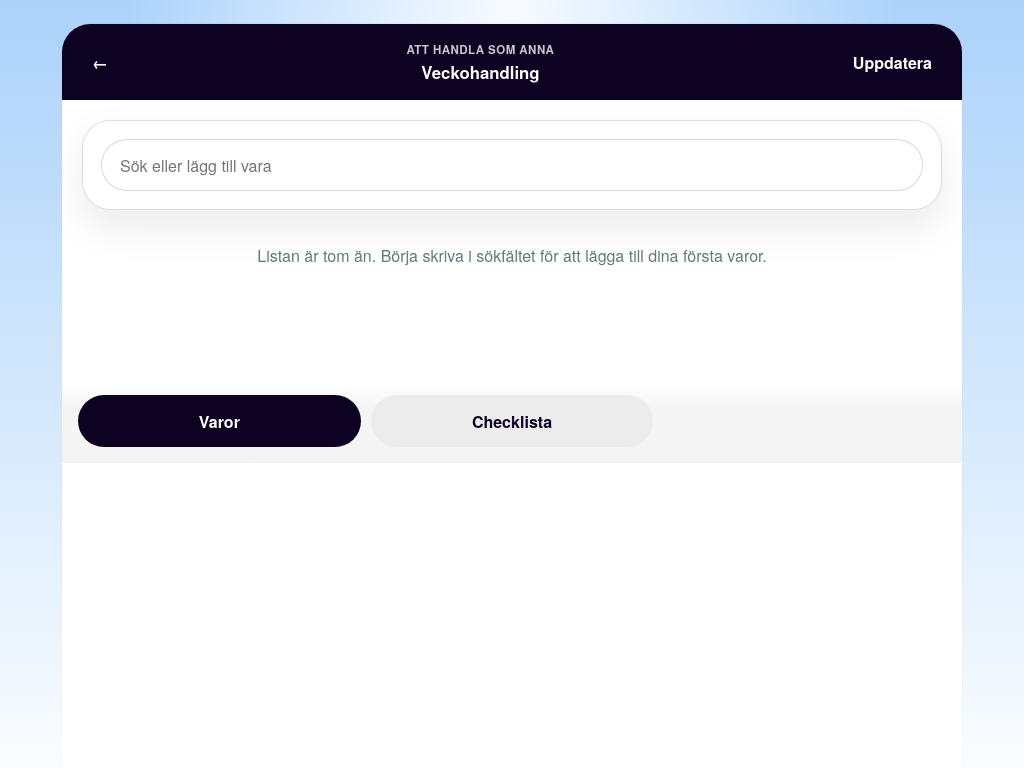
Scenario: ShoppingListDetailPage › keeps a real search input mounted in varor so tapping it opens search with focus intact
The width and height of the screenshot is (1024, 768).
expect the text "Veckohandling" is shown: met, box x1=421 y1=60 x2=540 y2=84
Click the field named "Sök artikel".
click(512, 165)  # box x1=101 y1=139 x2=923 y2=191
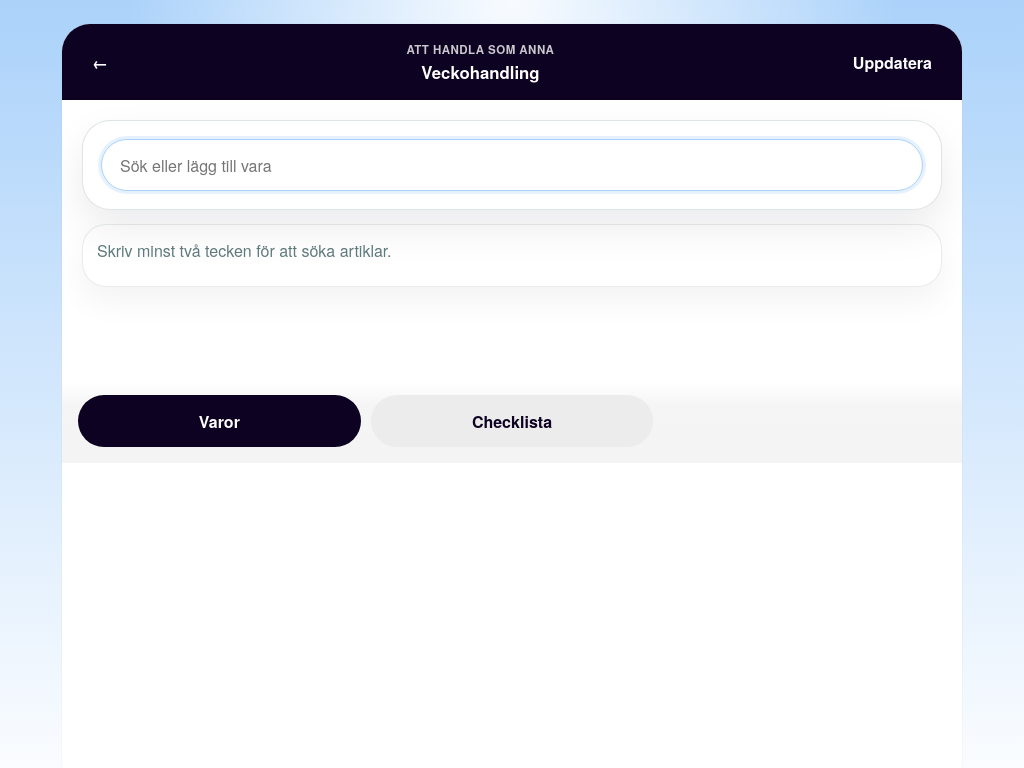
expect the text "Skriv minst två tecken för att söka artiklar." is shown: met, box x1=97 y1=239 x2=392 y2=262
